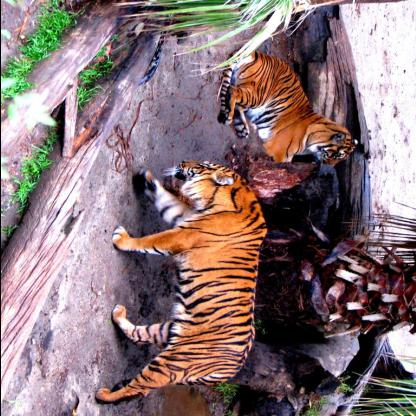tiger: (164, 156, 236, 191), (300, 128, 362, 168)
